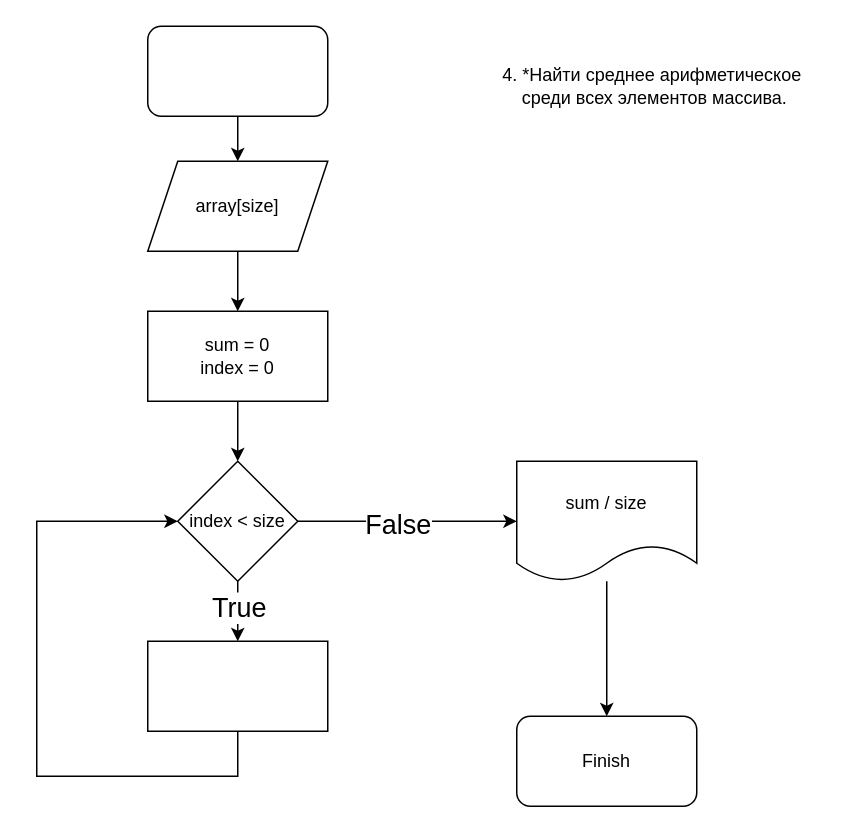
Some shapes in this 843 by 833 pixel diagram are drawn without their labels. Each missing label, with the centre of its shape:
"Start" goes at (237,70).
"sum += array[index] index += 1" goes at (237,685).
